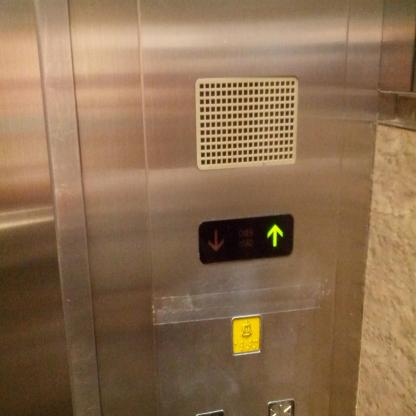alarm: (230, 313, 262, 358)
